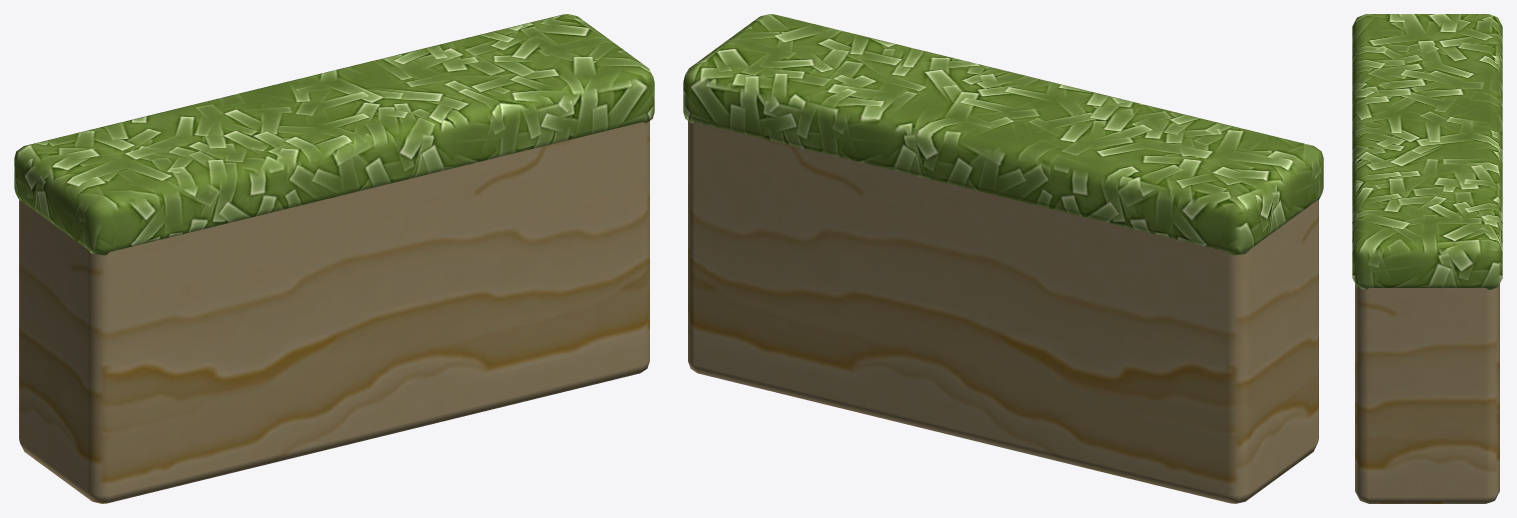
The model's file is SM_Platform_2m_Half_01_A.glb.
3 renders of one model, left to right at view 1: azimuth 30°, elevation 25°; view 2: azimuth 150°, elevation 25°; view 3: azimuth 270°, elevation 25°, orthographic. The views are drawn at different scales.
Parts seen in each view (by area): view 1: SM_Platform_2m_Half_01_A; view 2: SM_Platform_2m_Half_01_A; view 3: SM_Platform_2m_Half_01_A.
Boxes of the visible parts, x1,y1,x2,y2 form: SM_Platform_2m_Half_01_A: [14, 14, 654, 503]; SM_Platform_2m_Half_01_A: [683, 14, 1323, 503]; SM_Platform_2m_Half_01_A: [1352, 14, 1502, 503].
Bounding box in the file's own units: 2.02 × 1.05 × 0.54.
Materials: 2 (2 with a texture image).
